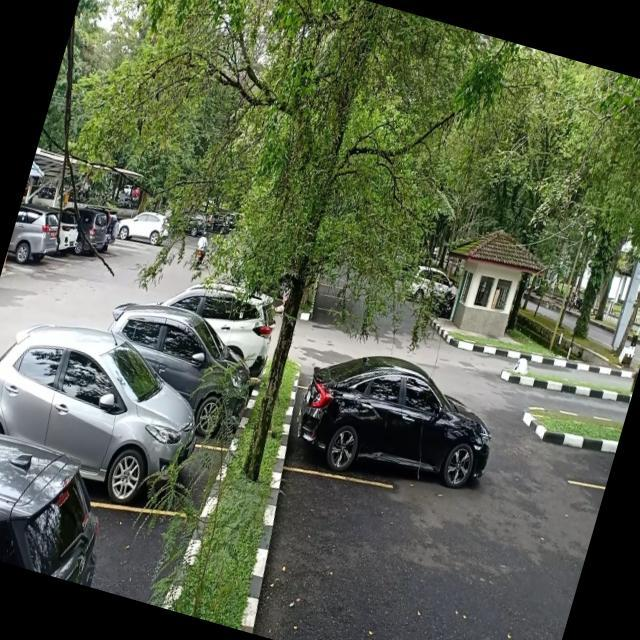occupied: (276, 374, 498, 516), (58, 387, 228, 533), (154, 332, 258, 459)
